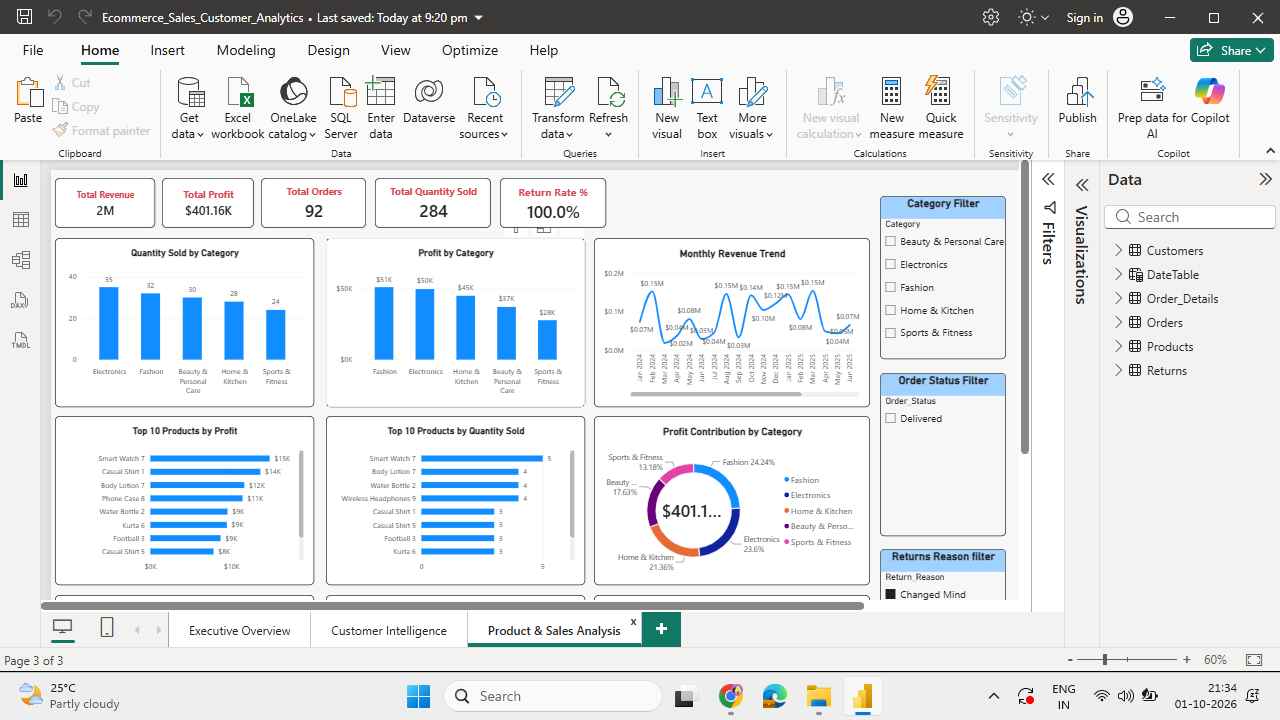

The page's visual inventory and layout, read from the dashboard file:
{"tool":"powerbi","page":{"name":"Product & Sales Analysis","canvas":[1920,1080],"ordinal":2},"visuals":[{"type":"cardVisual","fields":{"Data":["Order_Details.Total Revenue"]},"box":[6.7,13.3,166.7,83.3],"z":0},{"type":"cardVisual","fields":{"Data":["Order_Details.Total Profit"]},"box":[185,13.3,153.3,83.3],"z":1000},{"type":"cardVisual","fields":{"Data":["Orders.Total Orders"]},"box":[350,13.3,175,83.3],"z":2000},{"type":"cardVisual","fields":{"Data":["Order_Details.Total Quantity Sold"]},"box":[540,13.3,193.3,83.3],"z":3000},{"type":"clusteredColumnChart","title":"Quantity Sold by Category","fields":{"Category":["Products.Category"],"Y":["Order_Details.Total Quantity Sold"]},"box":[6.7,113.3,431.7,281.7],"z":4000},{"type":"clusteredColumnChart","title":"Profit by Category","fields":{"Category":["Products.Category"],"Y":["Order_Details.Total Profit"]},"box":[458.3,113.3,431.7,281.7],"z":5000},{"type":"clusteredBarChart","title":"Top 10 Products by Profit","fields":{"Category":["Products.Product_Name"],"Y":["Order_Details.Total Profit"]},"box":[6.7,410,431.7,281.7],"z":6000},{"type":"clusteredBarChart","title":"Top 10 Products by Quantity Sold","fields":{"Category":["Products.Product_Name"],"Y":["Order_Details.Total Quantity Sold"]},"box":[458.3,410,431.7,281.7],"z":7000},{"type":"lineChart","title":"Monthly Revenue Trend","fields":{"Category":["DateTable.Month Year"],"Y":["Order_Details.Total Revenue"]},"box":[905,113.3,460,281.7],"z":8000},{"type":"donutChart","title":"Profit Contribution by Category","fields":{"Category":["Products.Category"],"Y":["Order_Details.Total Profit"]},"box":[905,410,460,281.7],"z":9000},{"type":"slicer","title":"Category Filter","fields":{"Values":["Products.Category"]},"box":[1381.7,43.3,210,271.7],"z":10000},{"type":"slicer","title":"Order Status Filter","fields":{"Values":["Orders.Order_Status"]},"box":[1381.7,338.3,210,271.7],"z":10001},{"type":"cardVisual","fields":{"Data":["Orders.Return Rate %"]},"box":[748.3,13.3,176.7,83.3],"z":10002},{"type":"clusteredColumnChart","title":"Returns by Category","fields":{"Category":["Products.Category"],"Y":["CountNonNull(Returns.Return_ID)"]},"box":[6.7,708.3,431.7,308.3],"z":10003},{"type":"barChart","title":"Returns by Reason","fields":{"Category":["Returns.Return_Reason"],"Y":["CountNonNull(Returns.Return_ID)"]},"box":[458.3,708.3,431.7,308.3],"z":10004},{"type":"slicer","title":"Returns Reason filter","fields":{"Values":["Returns.Return_Reason"]},"box":[1381.7,631.7,210,308.3],"z":10005},{"type":"lineChart","title":"Monthly Profit Trend","fields":{"Category":["DateTable.Month Year"],"Y":["Order_Details.Total Profit"]},"box":[905,708.3,460,308.3],"z":10006}]}

Visuals, with their boxes on the page's 1920x1080 design canvas (x1, y1, x2, y2). These are canvas units, not pixel positions in the 1280x720 screenshot, which may show the page scaled, cropped or inside an application window:
cardVisual - Order_Details.Total Revenue: 7/13/173/97
cardVisual - Order_Details.Total Profit: 185/13/338/97
cardVisual - Orders.Total Orders: 350/13/525/97
cardVisual - Order_Details.Total Quantity Sold: 540/13/733/97
"Quantity Sold by Category" clusteredColumnChart: 7/113/438/395
"Profit by Category" clusteredColumnChart: 458/113/890/395
"Top 10 Products by Profit" clusteredBarChart: 7/410/438/692
"Top 10 Products by Quantity Sold" clusteredBarChart: 458/410/890/692
"Monthly Revenue Trend" lineChart: 905/113/1365/395
"Profit Contribution by Category" donutChart: 905/410/1365/692
"Category Filter" slicer: 1382/43/1592/315
"Order Status Filter" slicer: 1382/338/1592/610
cardVisual - Orders.Return Rate %: 748/13/925/97
"Returns by Category" clusteredColumnChart: 7/708/438/1017
"Returns by Reason" barChart: 458/708/890/1017
"Returns Reason filter" slicer: 1382/632/1592/940
"Monthly Profit Trend" lineChart: 905/708/1365/1017
